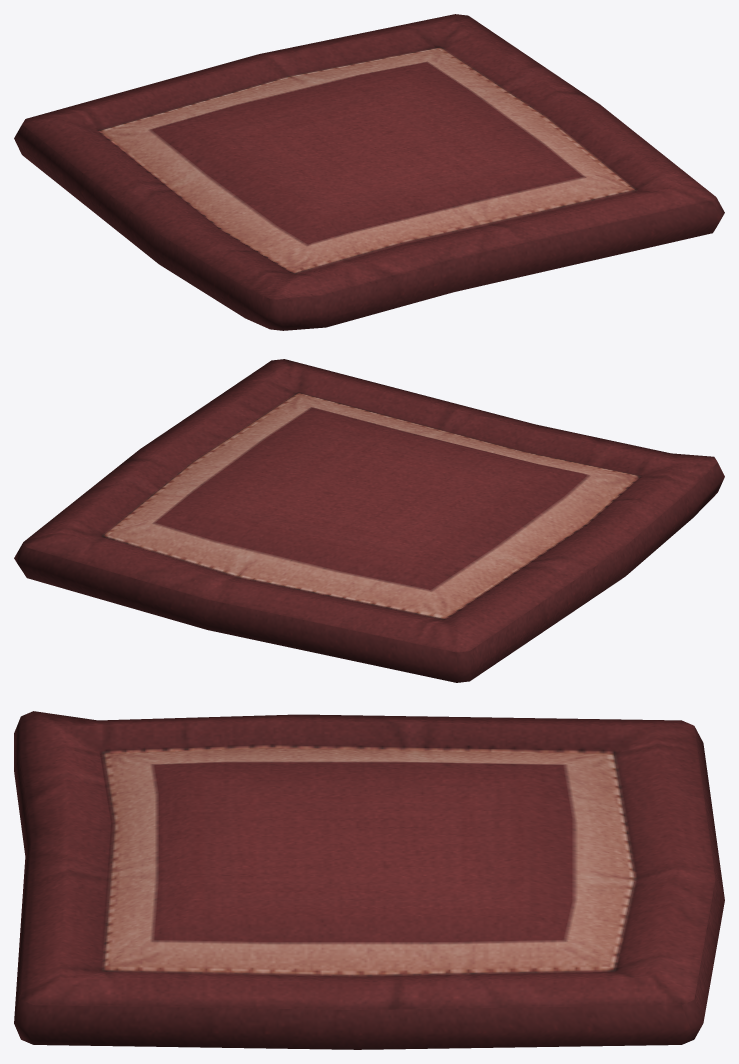
File: outside_model_02_mat002.FBX
3 renders of one model, top to bottom at view 1: azimuth 30°, elevation 25°; view 2: azimuth 150°, elevation 25°; view 3: azimuth 270°, elevation 25°, orthographic. The views are drawn at different scales.
Parts seen in each view (by area): view 1: outside_model_02_mat002; view 2: outside_model_02_mat002; view 3: outside_model_02_mat002.
Boxes of the visible parts, <box> form: outside_model_02_mat002: <box>14,14,724,330</box>; outside_model_02_mat002: <box>14,359,724,682</box>; outside_model_02_mat002: <box>14,711,724,1049</box>.
Bounding box in the file's own units: 1.14 × 0.0996 × 1.13.
